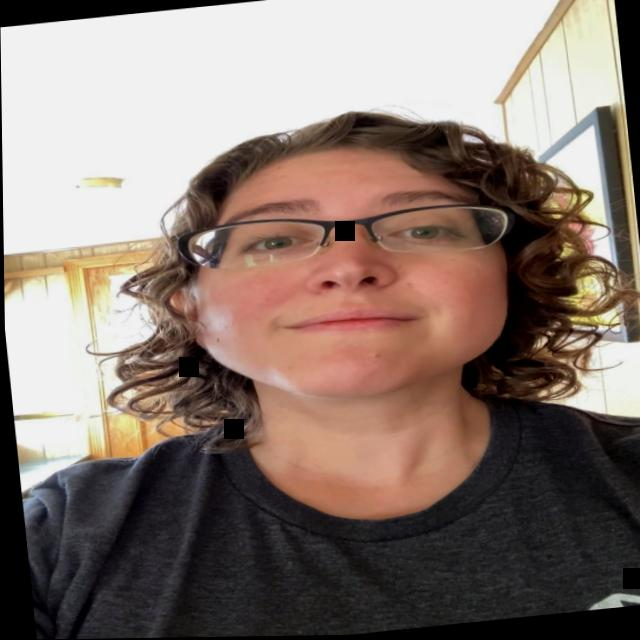NO-Mask: (155, 117, 526, 433)
